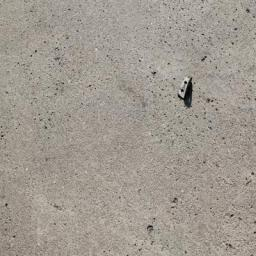FOD: (172, 70, 201, 112)
